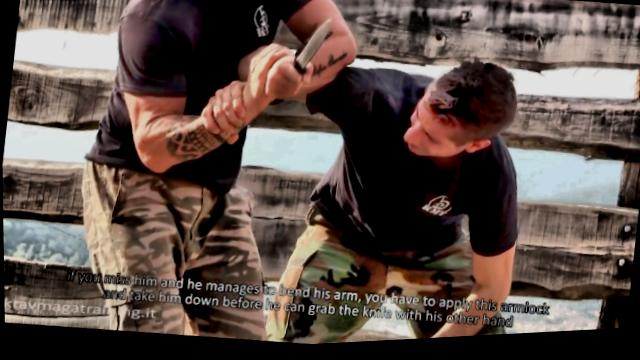knife: (268, 7, 338, 100)
